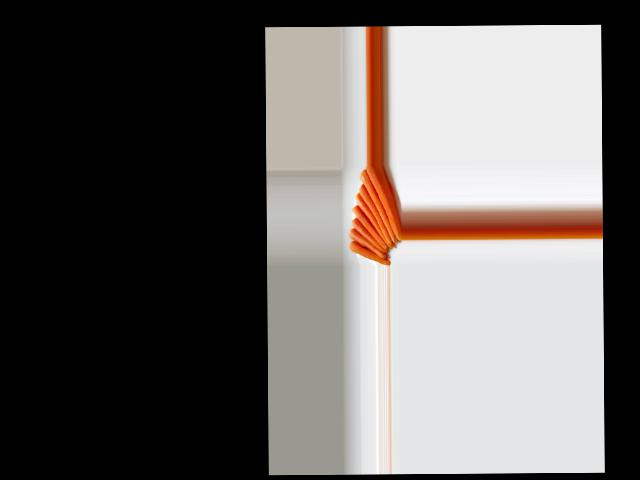carrot: (367, 165, 401, 239)
